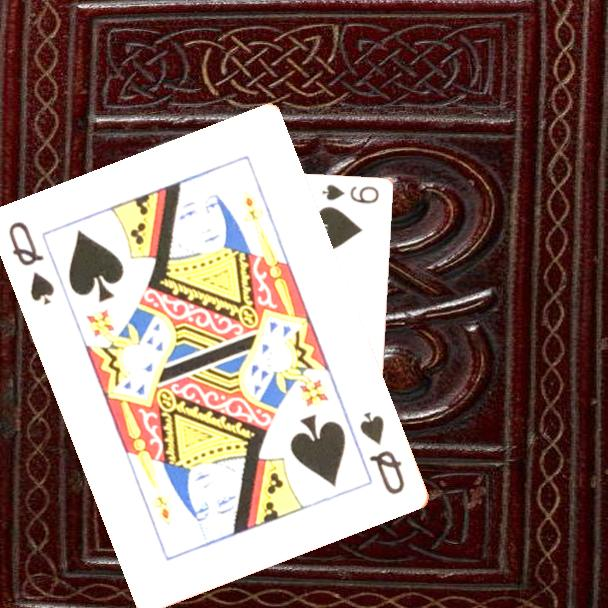s09: (318, 181, 381, 207)
s12: (5, 218, 58, 308), (356, 408, 408, 498)
